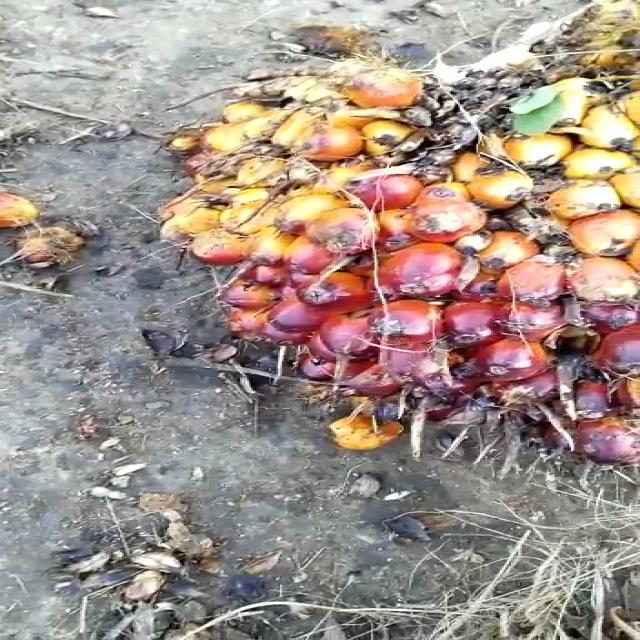palm oil: (117, 52, 640, 484)
